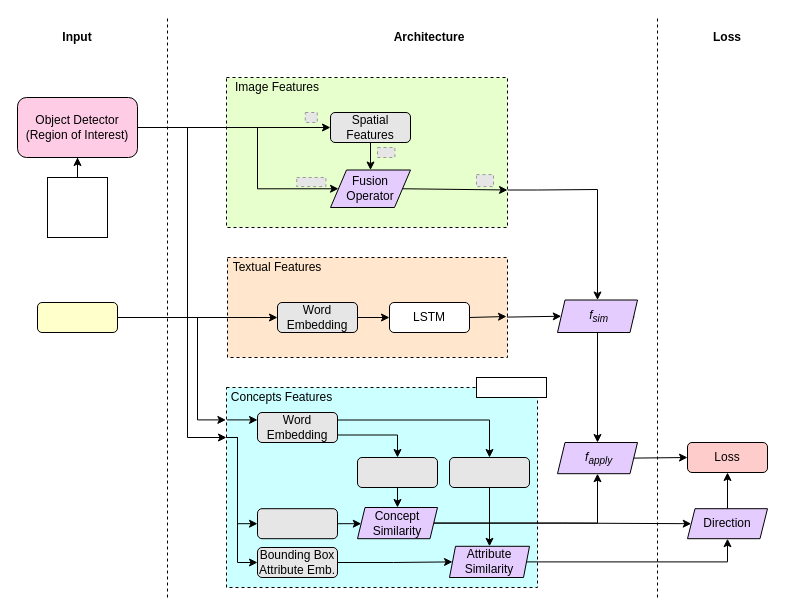
Image size: 785x616. Some labels were removed from this diagram. Grey dashed boxes stand in for pictures. The centre of each missing label's shape, as x and y in pixels:
"Adjective Embedding" belongs at [489,472].
"Bounding Box Class Emb." belongs at [297,523].
"Concept Embedding" belongs at [397,472].
"Image" belongs at [77,207].
"No Training" belongs at [511,387].
"Query" belongs at [77,317].
